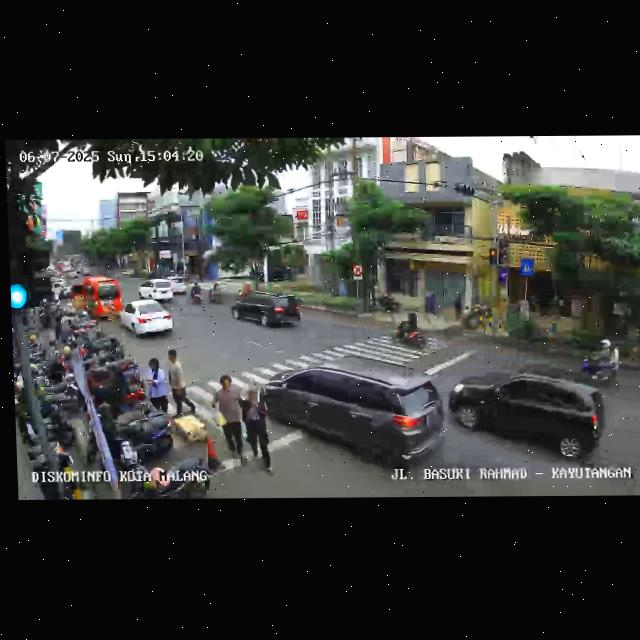car: (265, 364, 446, 467), (447, 366, 606, 464), (233, 291, 302, 331), (68, 277, 122, 322), (120, 300, 176, 340), (139, 277, 189, 303)
motorcycle: (578, 334, 621, 387), (392, 310, 435, 354), (189, 281, 203, 306)
person: (210, 376, 247, 467), (241, 387, 273, 471), (168, 349, 197, 426), (147, 357, 172, 415)
